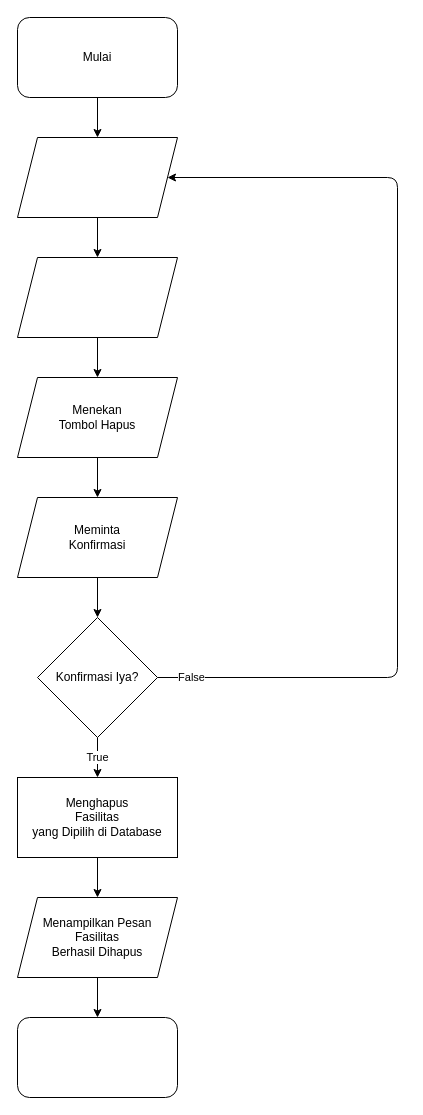
The diagram is 423 pixels wide and 1115 high, and some of its shapes have lost their labels. The shapes that lost their labels are listed below. From the top down, each one's centre as x and y in pixels, then its label:
[97,177]: Menampilkan Halaman Manajemen Fasilitas
[97,297]: Memilih Fasilitas yang Ingin Dihapus
[97,1057]: Selesai
